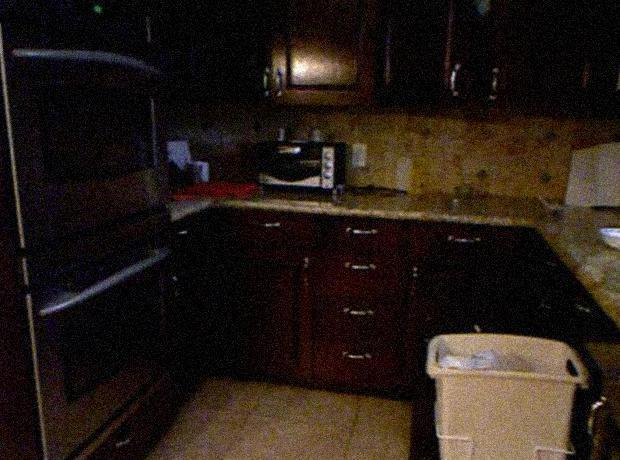Bote de Basura: (432, 333, 584, 460)
